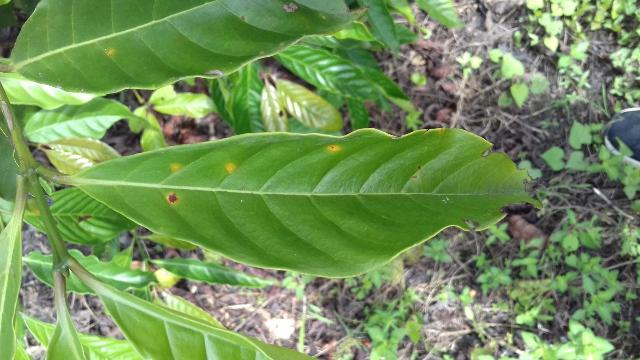rust_level_1: (74, 130, 547, 277)
